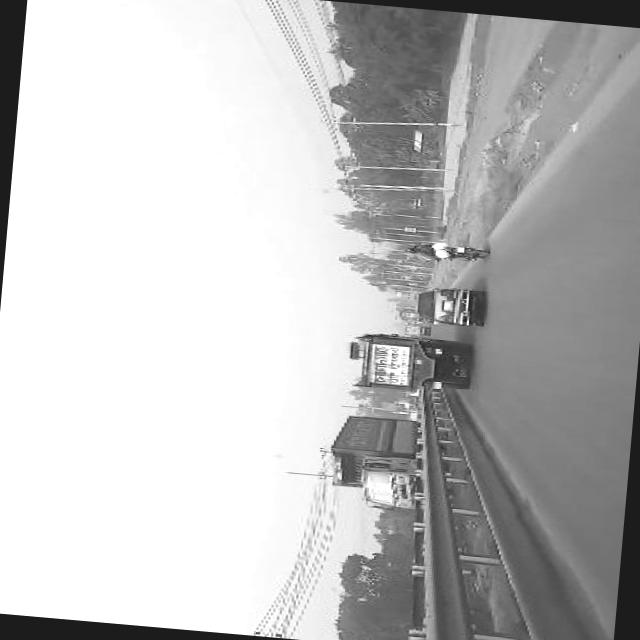car: (410, 282, 482, 326)
motorcycle: (398, 237, 484, 260)
truck: (328, 412, 421, 511), (338, 329, 471, 395), (390, 306, 413, 320), (398, 322, 424, 333)
